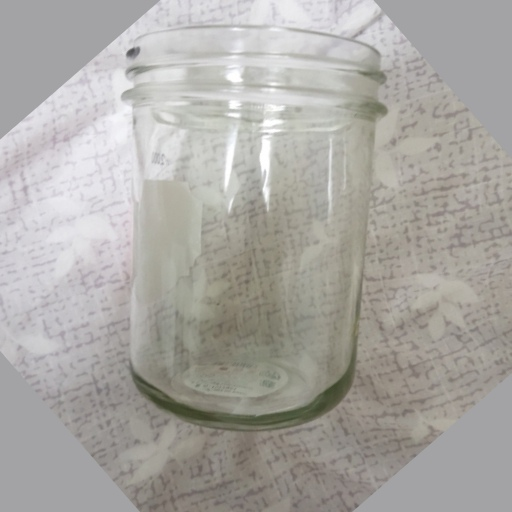Glass_5: (117, 21, 385, 427)
